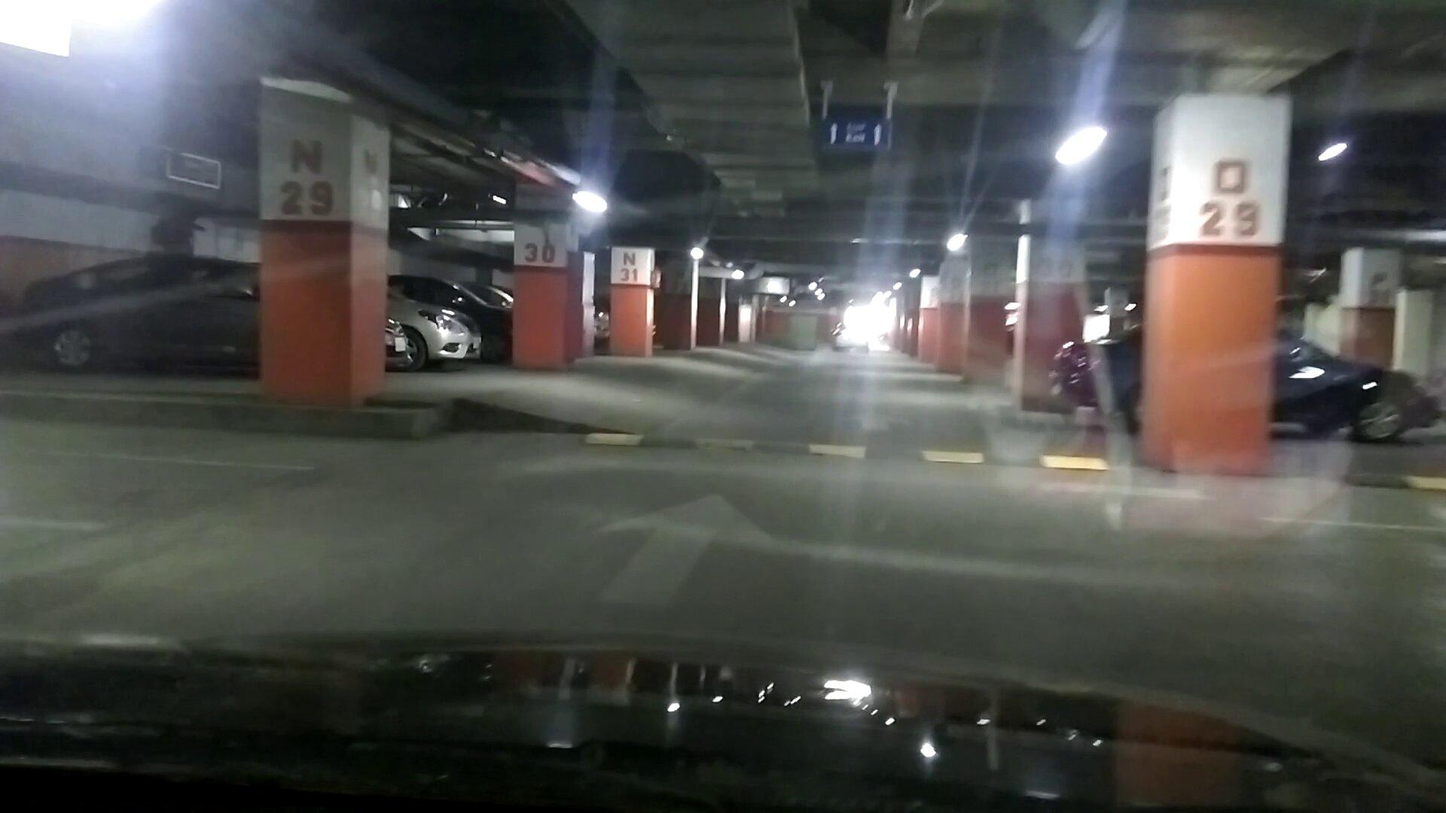Bump: (557, 423, 1117, 482)
